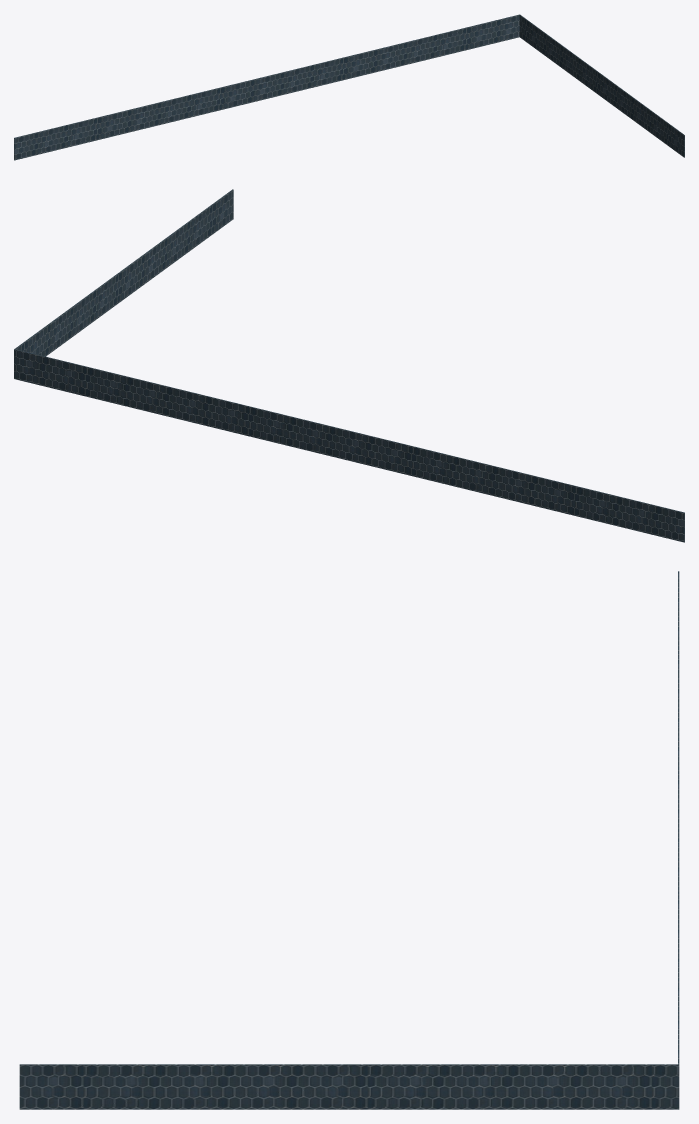
Rendered from BP_Omni_Navy_Glossy_Picket.glb.
The picture shows the model from 3 angles, top to bottom: view 1: azimuth 30°, elevation 25°; view 2: azimuth 150°, elevation 25°; view 3: azimuth 270°, elevation 25°; orthographic projection. The views are drawn at different scales.
Visible parts, largest first — view 1: BKSPLASH_omni_navy_glossy_picket.001; view 2: BKSPLASH_omni_navy_glossy_picket.001; view 3: BKSPLASH_omni_navy_glossy_picket.001.
Boxes of the visible parts, x1,y1,x2,y2 form: BKSPLASH_omni_navy_glossy_picket.001: (14,14,684,160); BKSPLASH_omni_navy_glossy_picket.001: (14,189,684,542); BKSPLASH_omni_navy_glossy_picket.001: (19,571,679,1109).
Bounding box in the file's own units: 7.1 × 0.3 × 4.01.
Materials: 1 (1 with a texture image).
